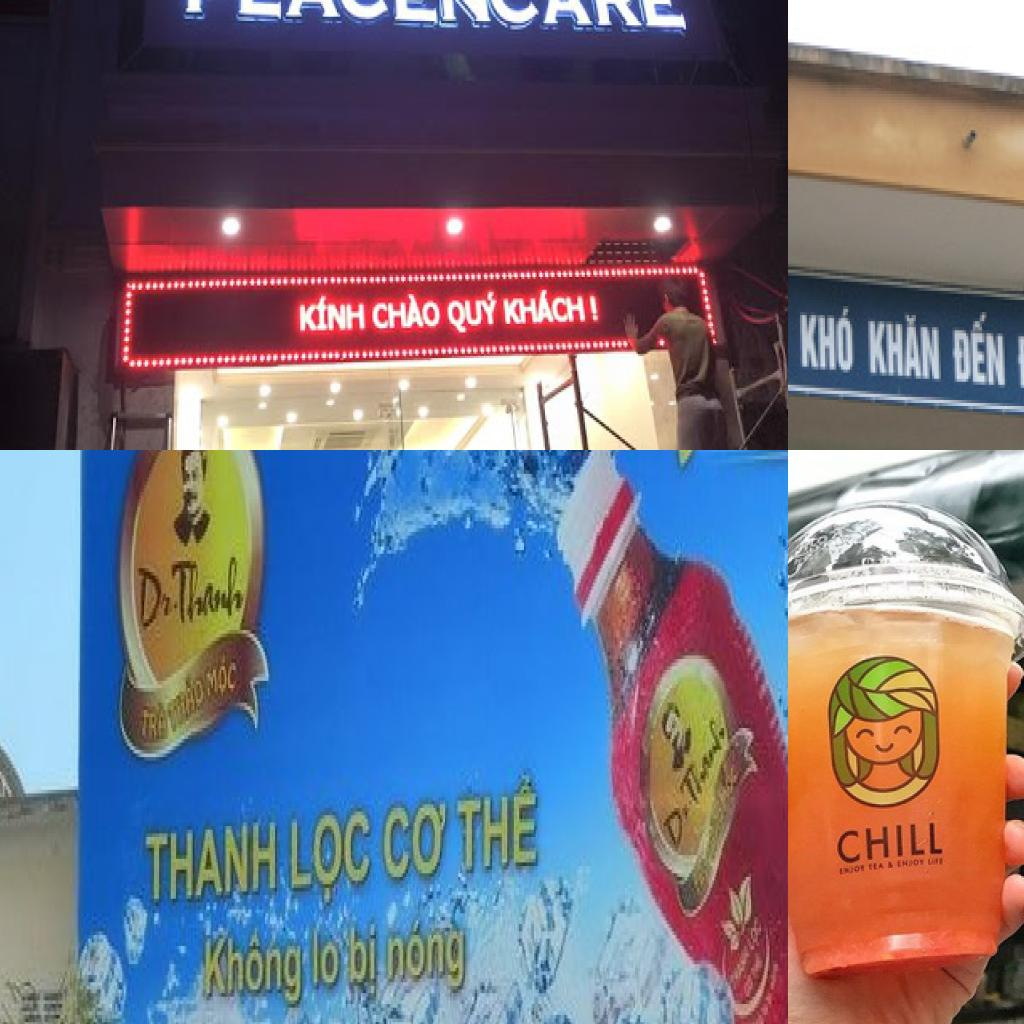text: (178, 0, 692, 37), (142, 812, 280, 913), (657, 699, 731, 862), (453, 764, 541, 877), (287, 808, 373, 917), (198, 928, 305, 1015), (136, 550, 248, 630), (386, 917, 469, 1004), (866, 312, 948, 388), (380, 800, 448, 888), (835, 820, 946, 866), (795, 300, 857, 382), (950, 309, 1009, 394), (502, 288, 590, 330), (294, 290, 369, 337), (369, 290, 444, 337), (164, 663, 208, 735), (346, 920, 381, 1000), (448, 290, 504, 339), (307, 924, 341, 997), (203, 644, 240, 710), (139, 696, 171, 746)
